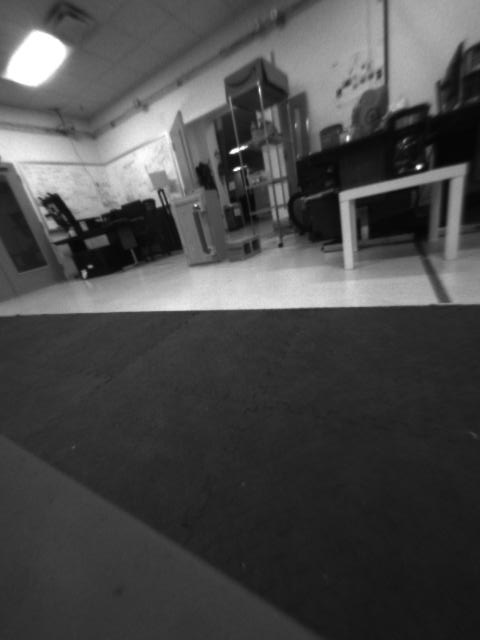coffee_pot: (381, 104, 428, 177)
